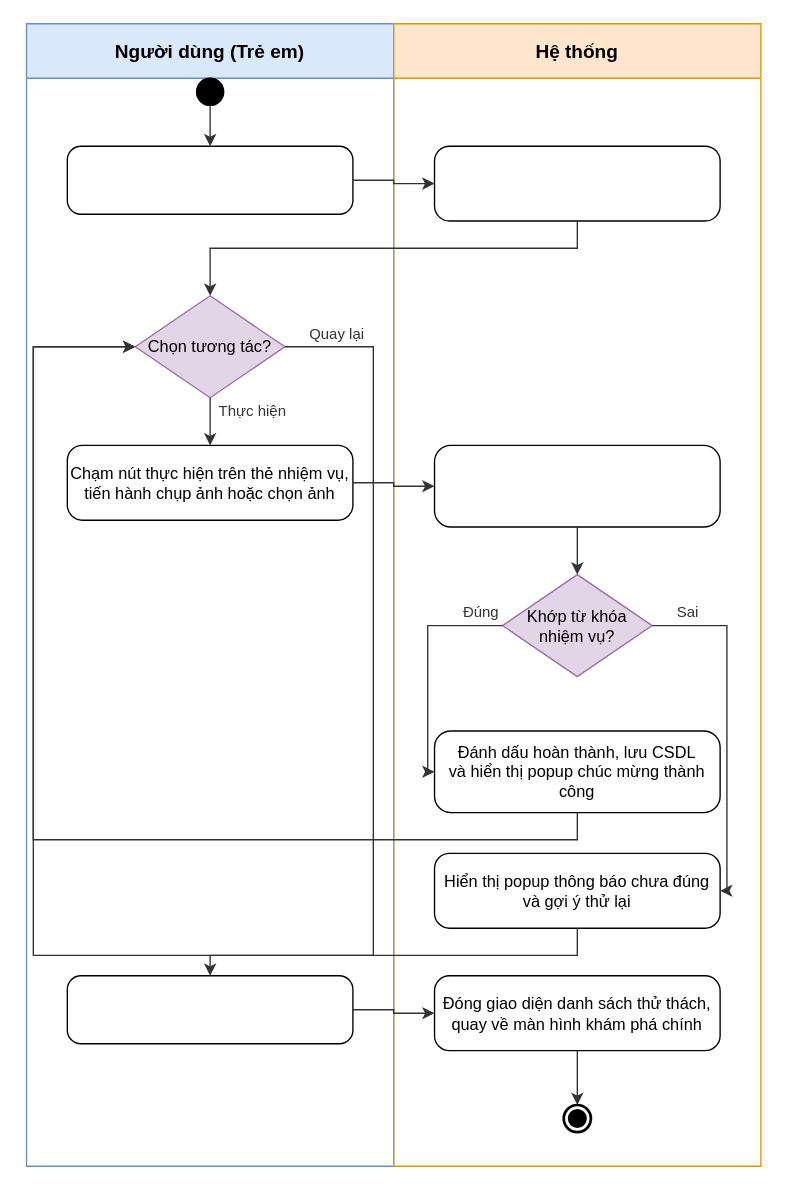
Some shapes in this 785 by 1190 pixel diagram are drawn without their labels. Each missing label, with the centre of its shape:
Bấm chọn thẻ Game truy tìm kho báu trên màn hình khám phá: the point at 209,179
Nhấn nút Quay lại (Back): the point at 209,1009
Nhận dạng vật thể qua MobileNet và so khớp với từ khóa nhiệm vụ: the point at 576,485
Tải dữ liệu từ Firebase và hiển thị danh sách nhiệm vụ, biểu ngữ tiến trình: the point at 576,183
